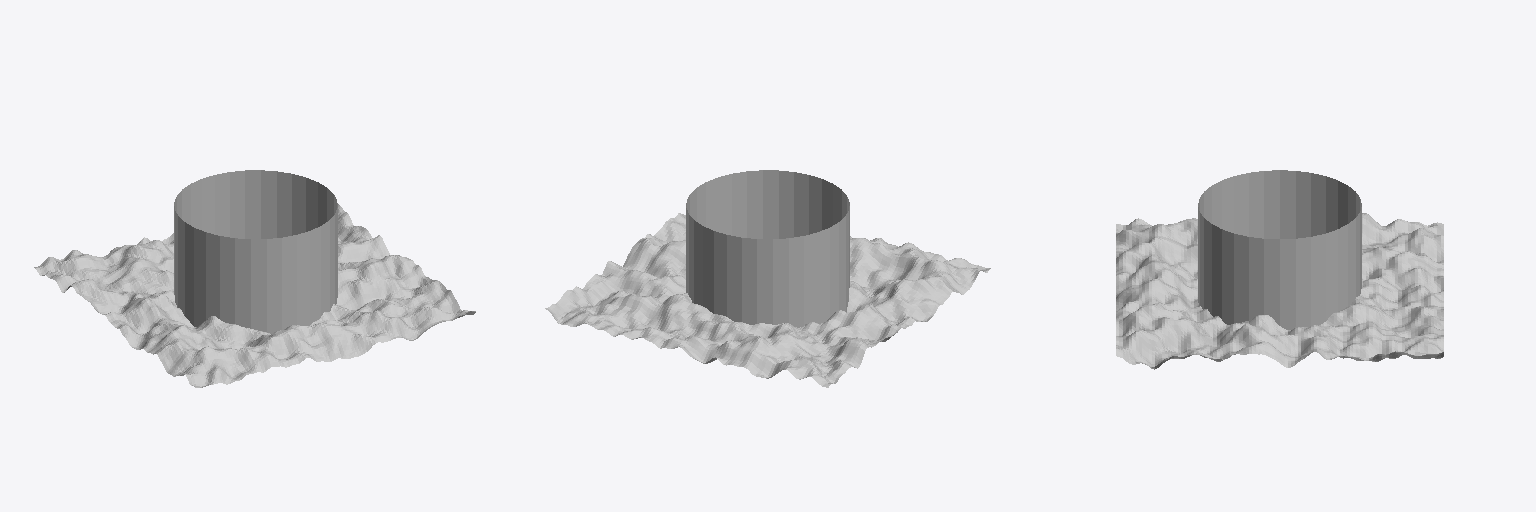
The model's file is terrain2.obj.
The picture shows the model from 3 angles: view 1: azimuth 30°, elevation 25°; view 2: azimuth 150°, elevation 25°; view 3: azimuth 270°, elevation 25°; orthographic projection.
Parts seen in each view (by area): view 1: Plane, Circle; view 2: Plane, Circle; view 3: Plane, Circle.
Boxes of the visible parts, box(x1,y1,x2,y2) form: Plane: box(34, 204, 475, 387); Circle: box(174, 170, 337, 333); Plane: box(545, 213, 990, 387); Circle: box(686, 170, 849, 327); Plane: box(1116, 213, 1443, 369); Circle: box(1198, 170, 1361, 329).
Size of the model in its own units: 150 by 51.67 by 150.